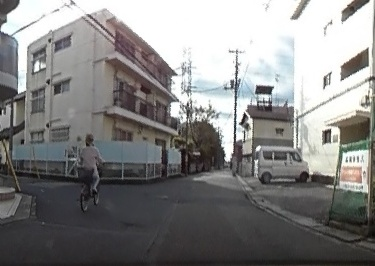person: (79, 130, 100, 196)
